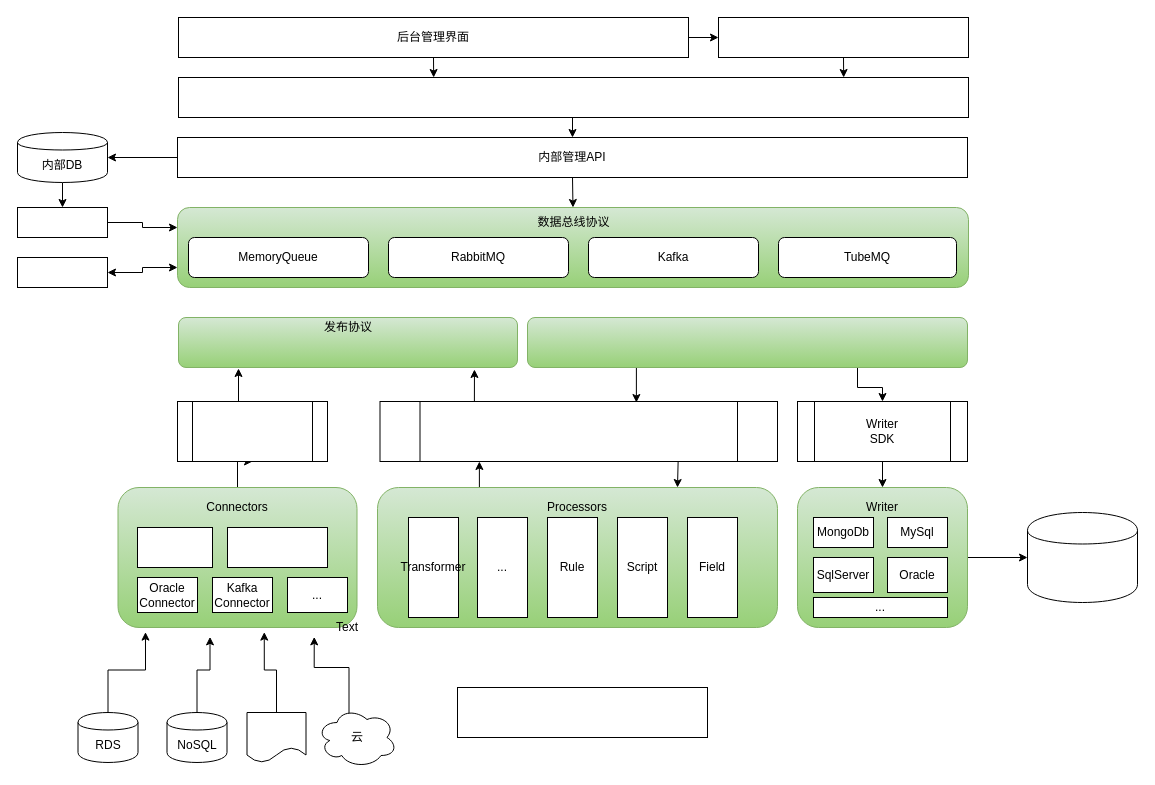
The diagram is 1155 pixels wide and 785 high, and some of its shapes have lost their labels. Here are the shapes that lost their labels. From the top down, the box of each, then its label:
(718, 16, 968, 58): 后台管理API
(178, 76, 968, 118): 权限识别
(16, 206, 108, 238): 调度器
(16, 256, 108, 288): Retry
(526, 316, 968, 368): 订阅协议
(176, 400, 328, 462): Connector SDK
(379, 400, 778, 462): Processor SDK
(136, 526, 212, 568): MySql Binlog Connector
(226, 526, 328, 568): MongoDb Oplog Connector
(1026, 512, 1138, 602): 业务数据
(456, 686, 708, 738): 自定义Processor
(246, 712, 306, 762): JSON
